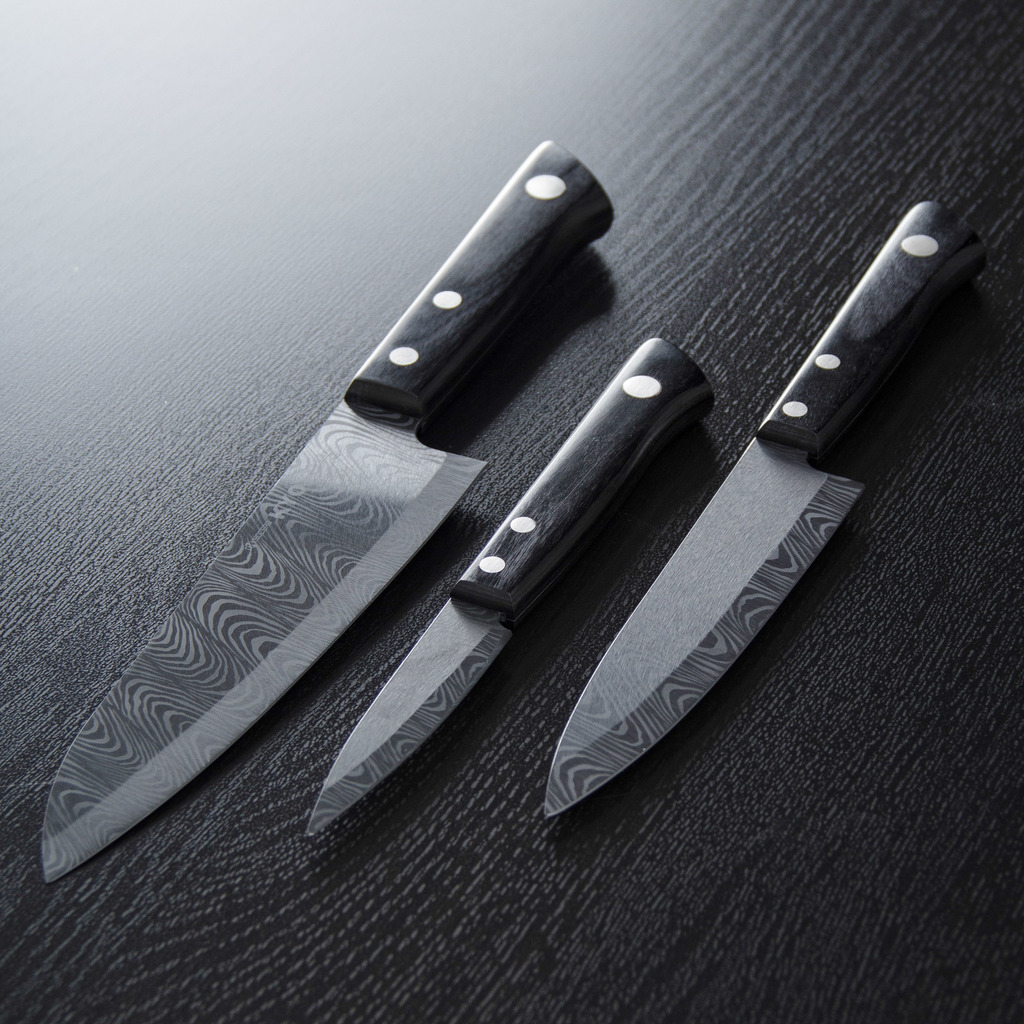kitchen knife: (41, 140, 616, 884), (544, 201, 986, 819), (307, 337, 715, 833)
